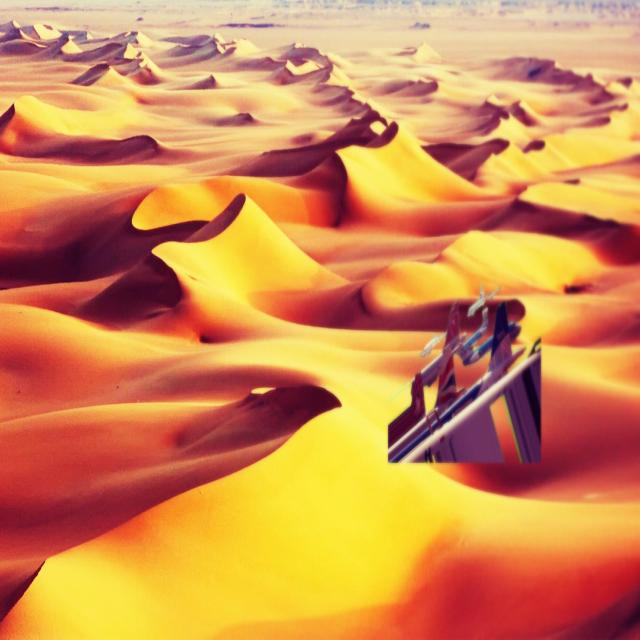airplane: (387, 293, 542, 465)
